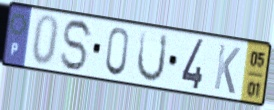0: (28, 12, 63, 69), (104, 26, 131, 78)
4: (179, 37, 204, 92)
K: (212, 42, 242, 97)
S: (59, 17, 96, 73)
U: (135, 29, 170, 84)
